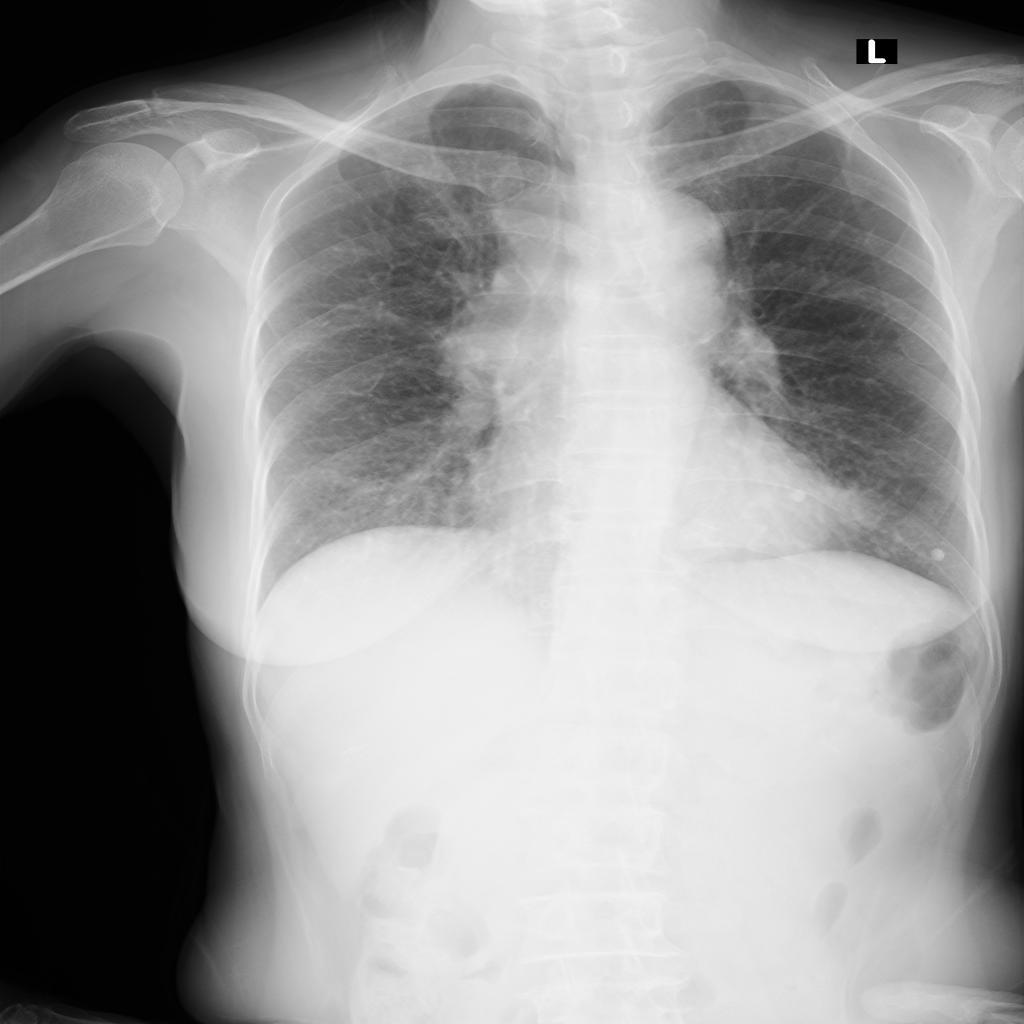Nodule: (818, 486, 882, 536), (928, 547, 949, 565)
